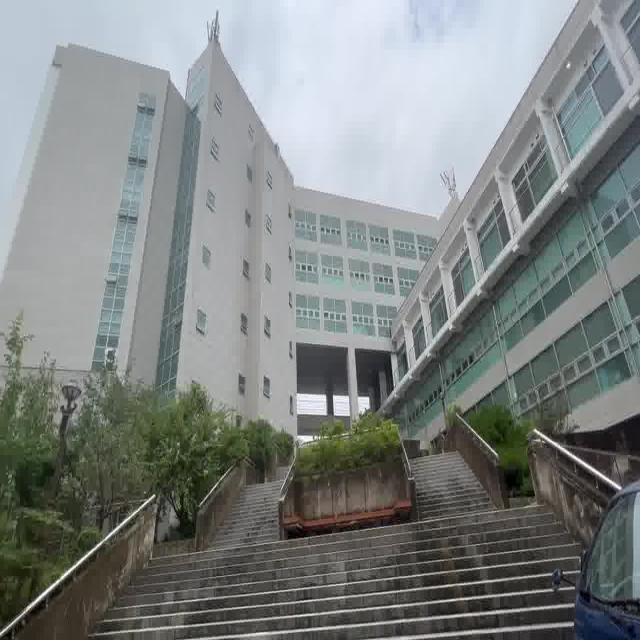building: (34, 68, 425, 373)
